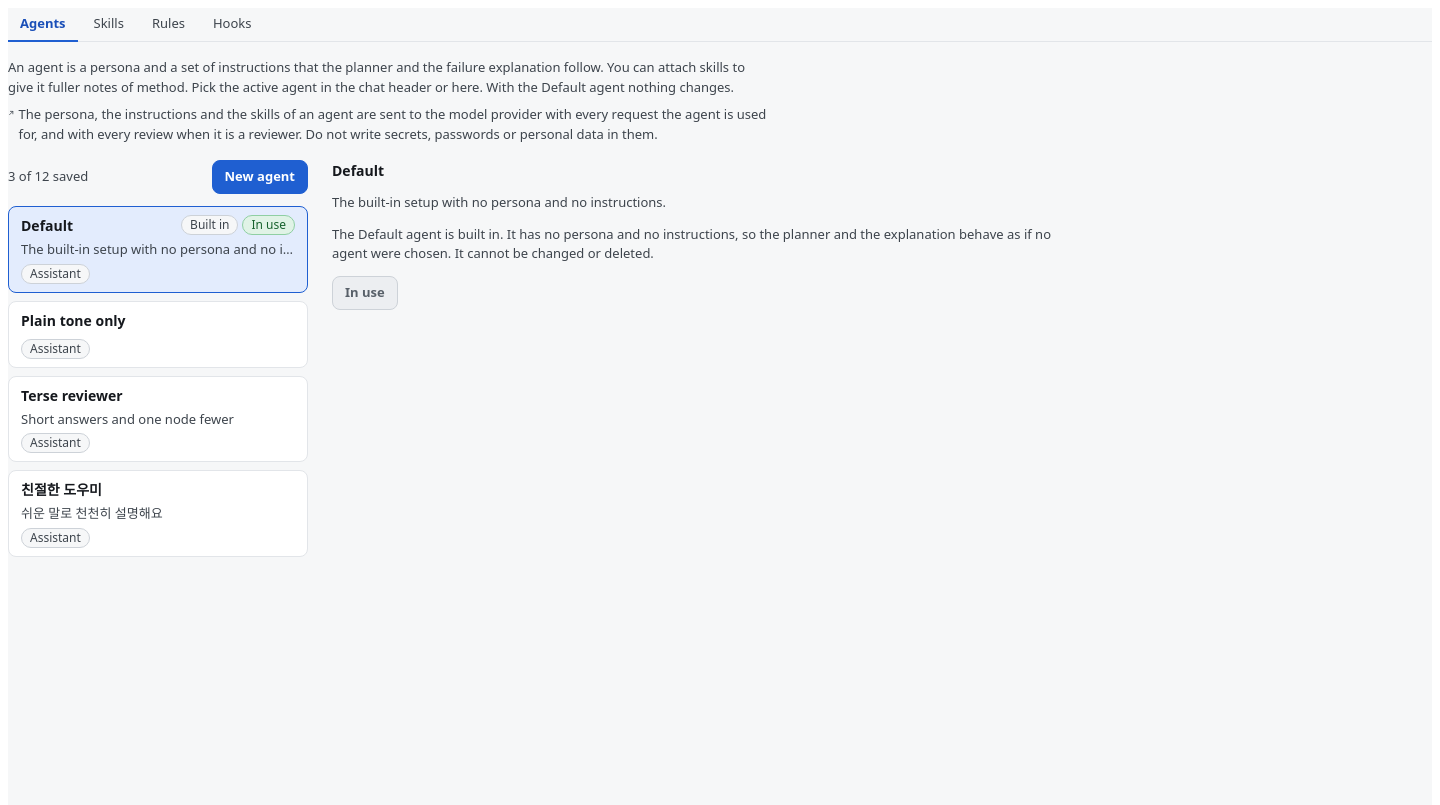
Test: AgentsTab › switches to the Rules screen and back, and keeps the focus on the button that was pressed
Expected: the list named "Agent list" is shown, 8,206 -> 308,556
Click the button "Rules".
click(168, 25)  # box 140,8 -> 197,42
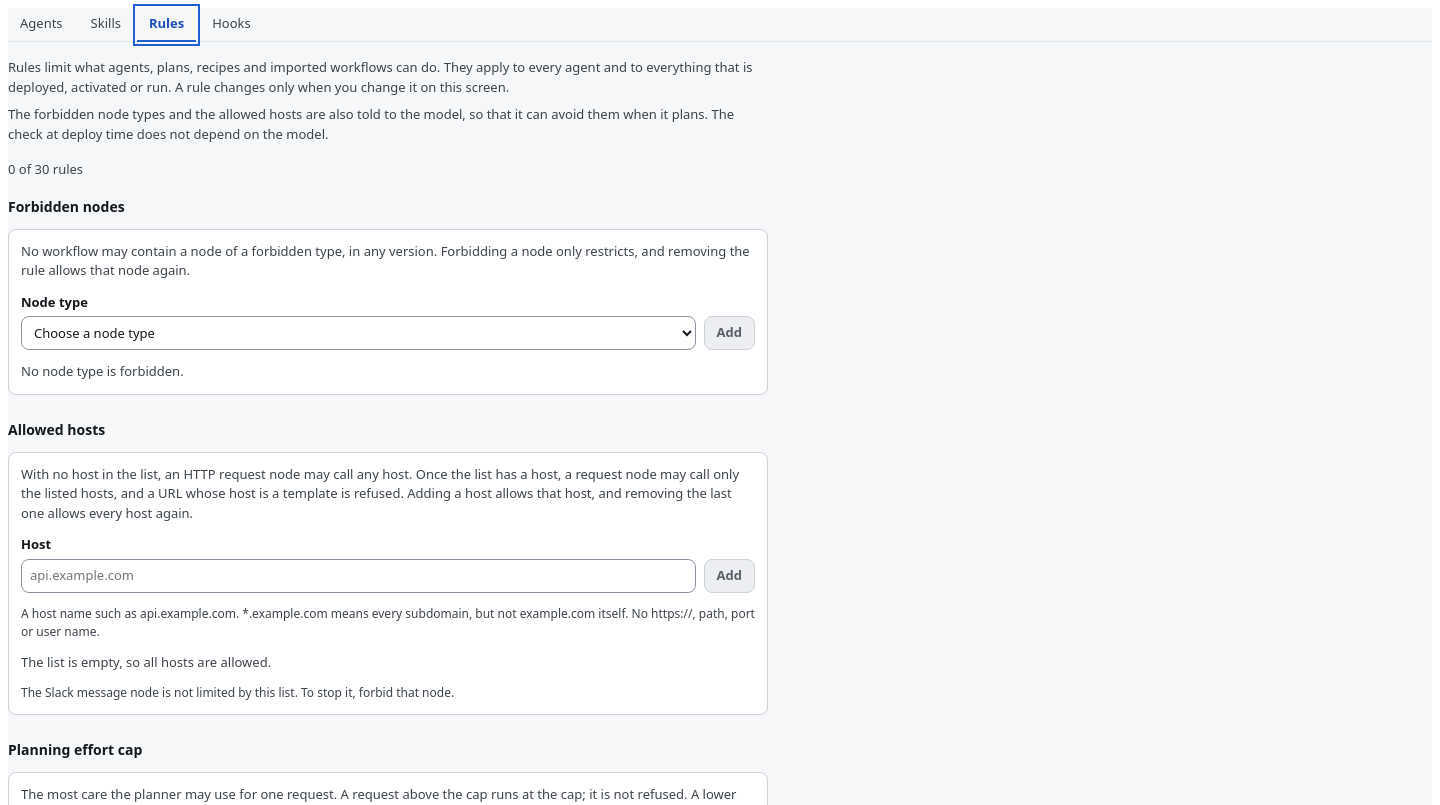
Expected: the element "Forbidden nodes" is shown, 8,196 -> 768,394
Click the button "Agents".
click(41, 25)  # box 8,8 -> 75,42
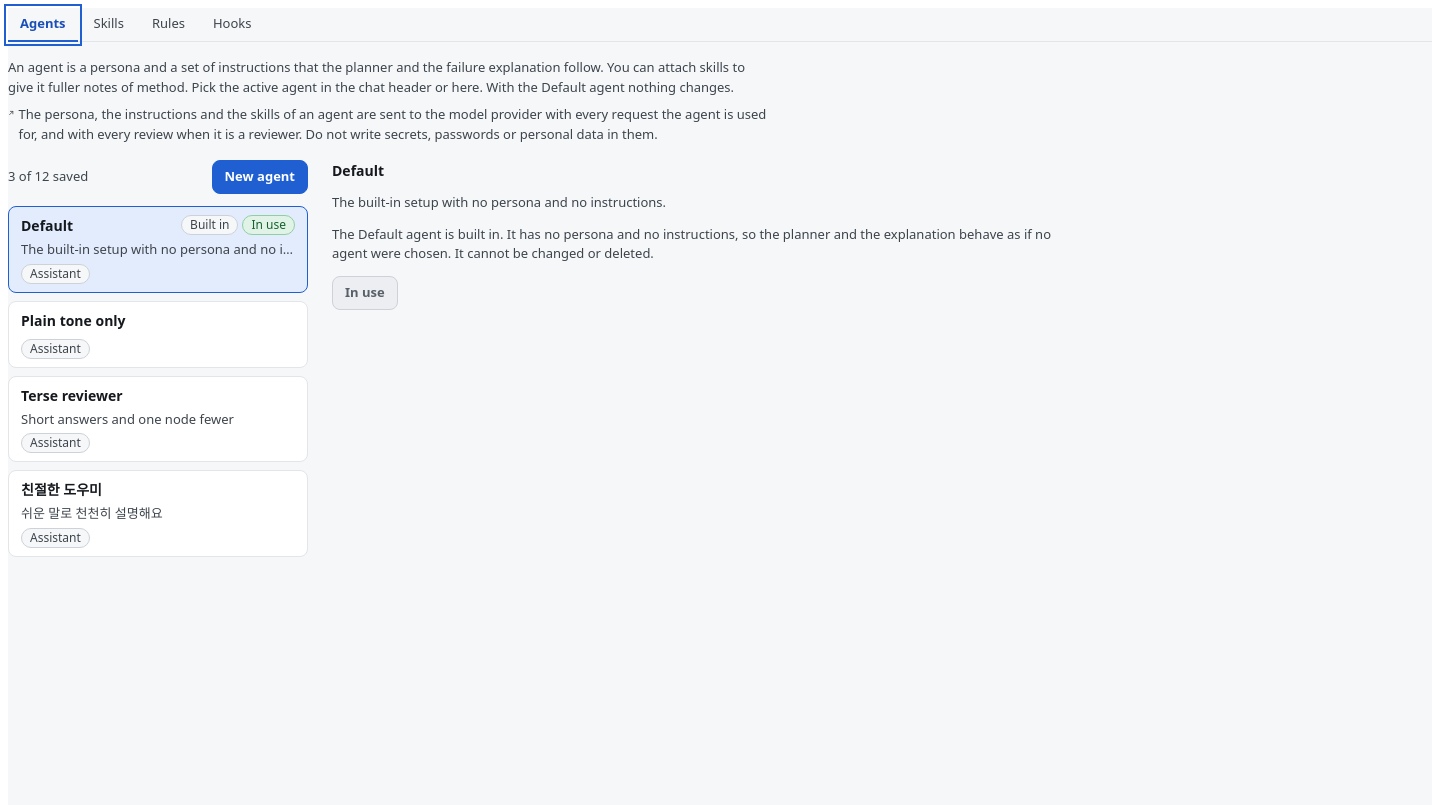
Expected: the list named "Agent list" is shown, 8,206 -> 308,556
Expected: the heading "Forbidden nodes" is gone
